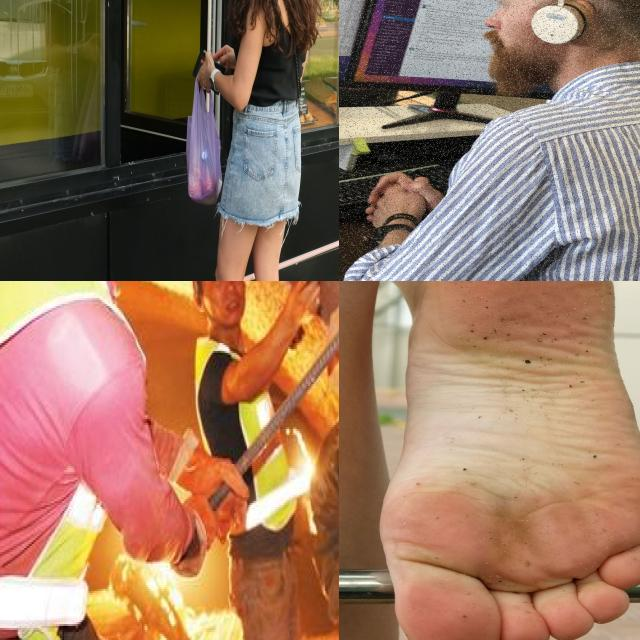Barefoots: (379, 281, 640, 640)
Ear-protection: (458, 0, 640, 120)
hand_glove: (178, 444, 248, 539)
hand_noglove: (280, 281, 320, 346)
head_helmet: (330, 306, 339, 337)
